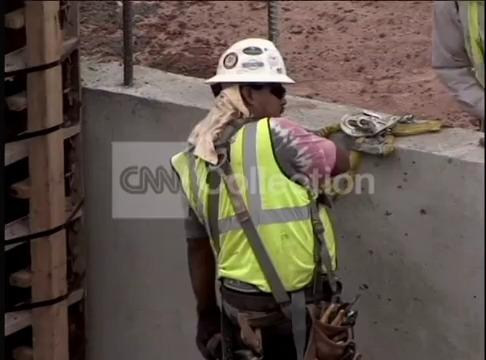Helmet: (208, 39, 299, 89)
Person: (165, 37, 359, 360)
Safety Vest: (195, 118, 323, 292)
